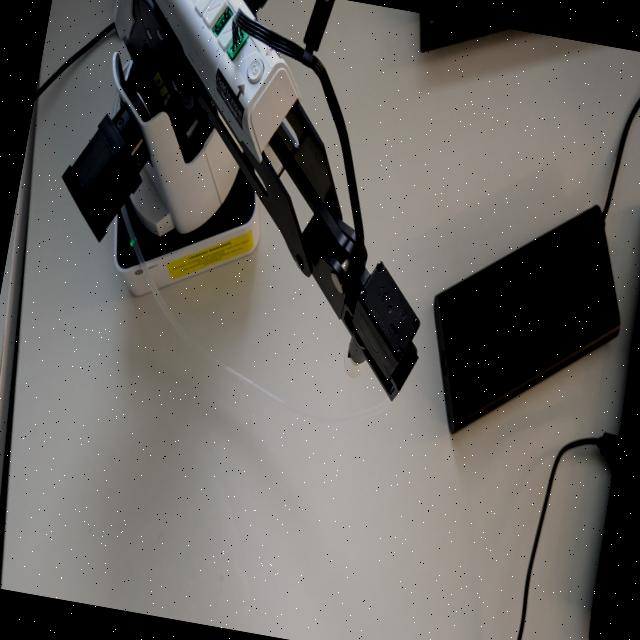Robot-end-effector-HF8z: (332, 246, 437, 409)
